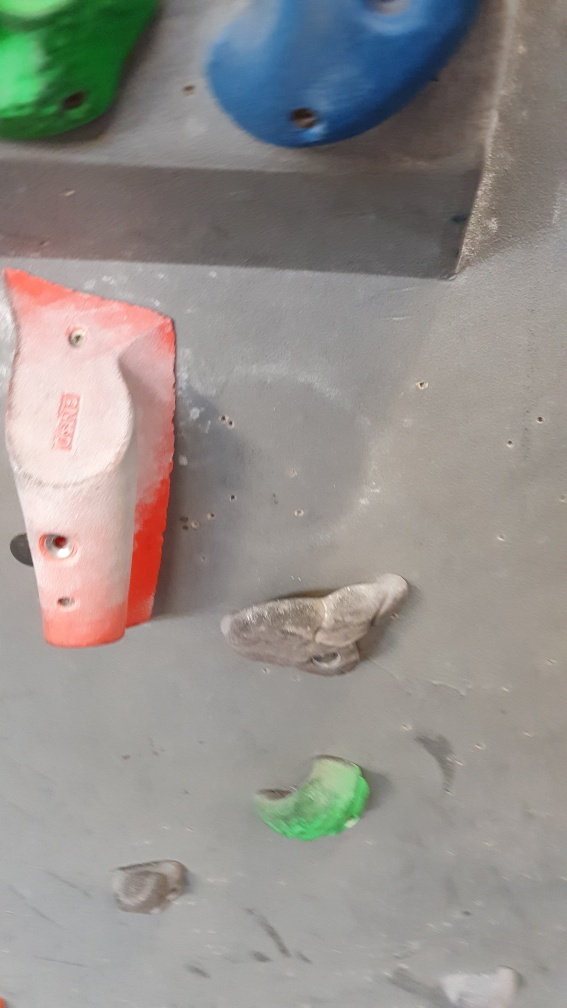Hand Start: (3, 530, 44, 571)
Jug: (223, 572, 413, 678), (253, 752, 375, 845)
Pinch: (1, 257, 178, 650)
